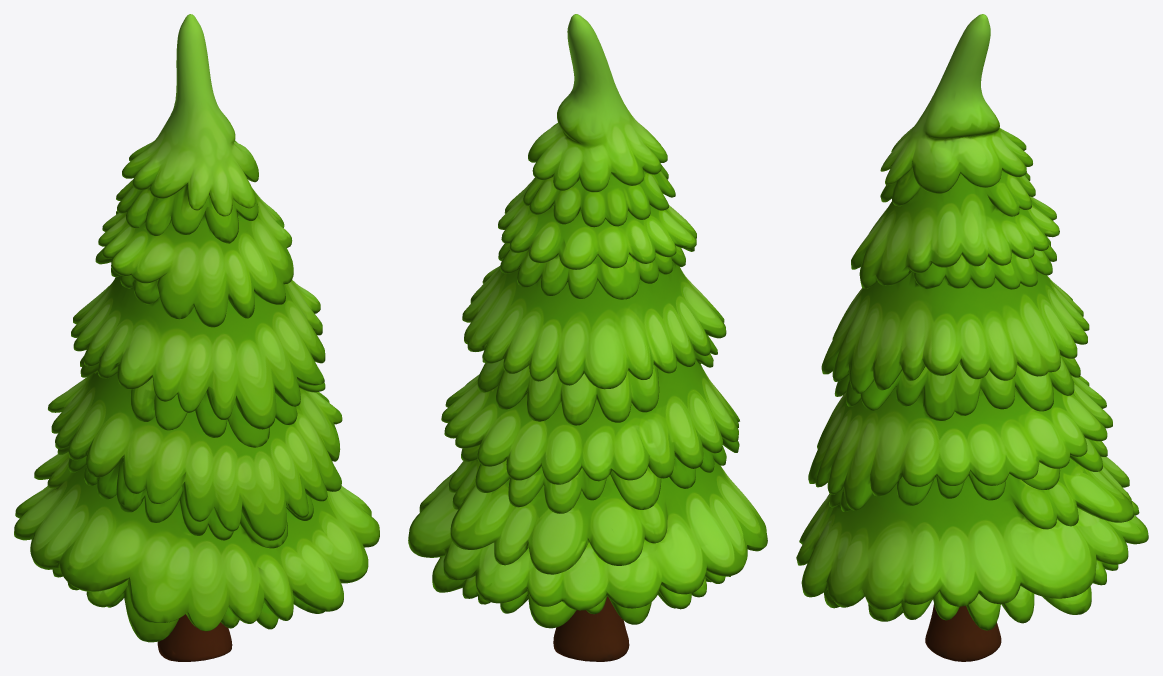
Rendered from tree.glb.
3 renders of one model, left to right at view 1: azimuth 30°, elevation 25°; view 2: azimuth 150°, elevation 25°; view 3: azimuth 270°, elevation 25°, orthographic. The views are drawn at different scales.
Visible parts, largest first — view 1: node_0; view 2: node_0; view 3: node_0.
Part boxes in pixels (bbox=[...]): node_0: bbox=[14, 14, 379, 661]; node_0: bbox=[408, 14, 767, 661]; node_0: bbox=[796, 14, 1148, 661].
Bounding box in the file's own units: 0.6081 × 1.2 × 0.6011.
1 material, 1 textured.
